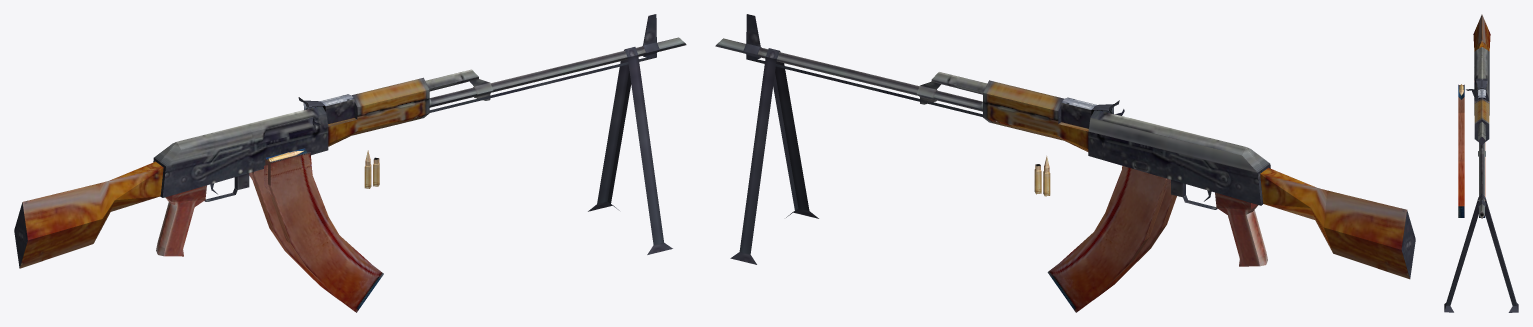
The model's file is RPK.fbx.
The picture shows the model from 3 angles, left to right: view 1: azimuth 30°, elevation 25°; view 2: azimuth 150°, elevation 25°; view 3: azimuth 270°, elevation 25°; orthographic projection. The views are drawn at different scales.
Visible parts, largest first — view 1: RPK, RPK_Mag_Full, RPK_Mag_Empty; view 2: RPK, RPK_Mag_Empty, RPK_Mag_Full; view 3: RPK, RPK_Mag_Full.
Part boxes in pixels (box(x1,y1,x2,y2)): RPK: box(14, 14, 686, 268); RPK_Mag_Full: box(264, 148, 383, 312); RPK_Mag_Empty: box(249, 169, 339, 300); RPK: box(715, 14, 1415, 279); RPK_Mag_Empty: box(1047, 166, 1170, 312); RPK_Mag_Full: box(1094, 182, 1176, 299); RPK: box(1444, 14, 1518, 312); RPK_Mag_Full: box(1458, 84, 1464, 217).
Size of the model in its own units: 531 by 160 by 82.38.
